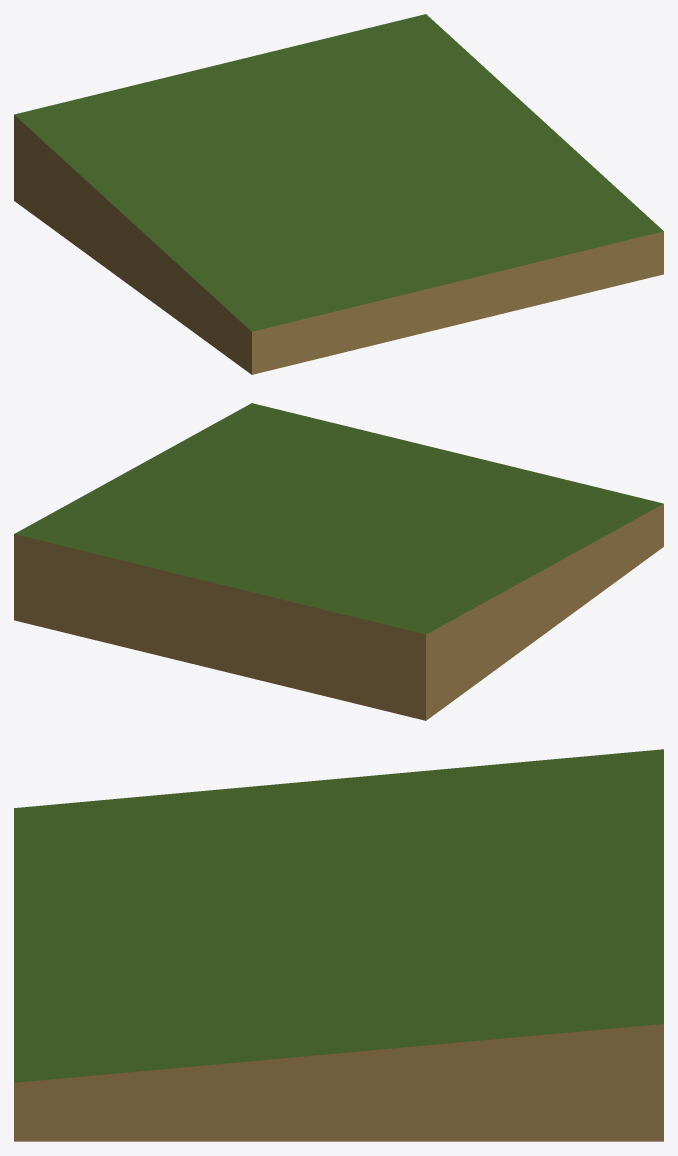
The model's file is Terrain_Modular_Tiles_Grass_Dirt_Ramp_Small_01.fbx.
The picture shows the model from 3 angles, top to bottom: view 1: azimuth 30°, elevation 25°; view 2: azimuth 150°, elevation 25°; view 3: azimuth 270°, elevation 25°; orthographic projection. The views are drawn at different scales.
Parts seen in each view (by area): view 1: Terrain_Modular_Tiles_Grass_Dirt_Ramp_Small_01; view 2: Terrain_Modular_Tiles_Grass_Dirt_Ramp_Small_01; view 3: Terrain_Modular_Tiles_Grass_Dirt_Ramp_Small_01.
Part boxes in pixels (x1,y1,x2,y2): Terrain_Modular_Tiles_Grass_Dirt_Ramp_Small_01: (14,14,663,374); Terrain_Modular_Tiles_Grass_Dirt_Ramp_Small_01: (14,403,663,720); Terrain_Modular_Tiles_Grass_Dirt_Ramp_Small_01: (14,749,663,1141).
Size of the model in its own units: 3000 by 600 by 3000.
